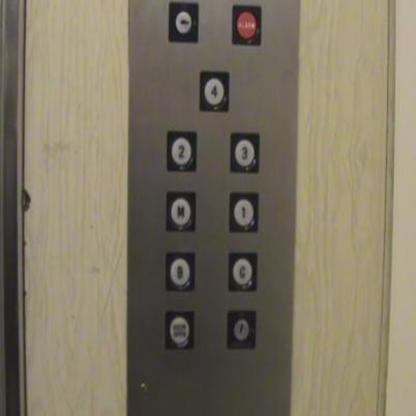1: (227, 189, 260, 234)
2: (164, 128, 198, 172)
3: (227, 129, 260, 174)
4: (197, 68, 230, 113)
B: (163, 250, 195, 293)
G: (227, 250, 258, 293)
M: (164, 188, 197, 233)
bt_keyhole: (225, 307, 256, 350)
keyhole: (166, 0, 200, 44)
text: (163, 309, 195, 351)
text_alarm bell: (230, 2, 262, 47)
